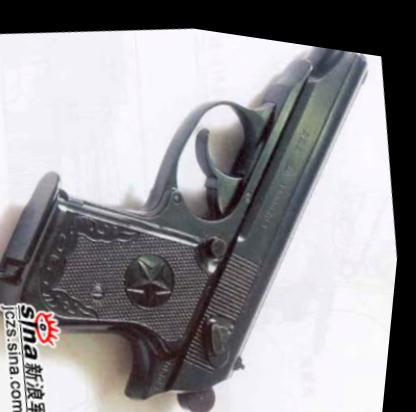pistol: (0, 0, 415, 410)
